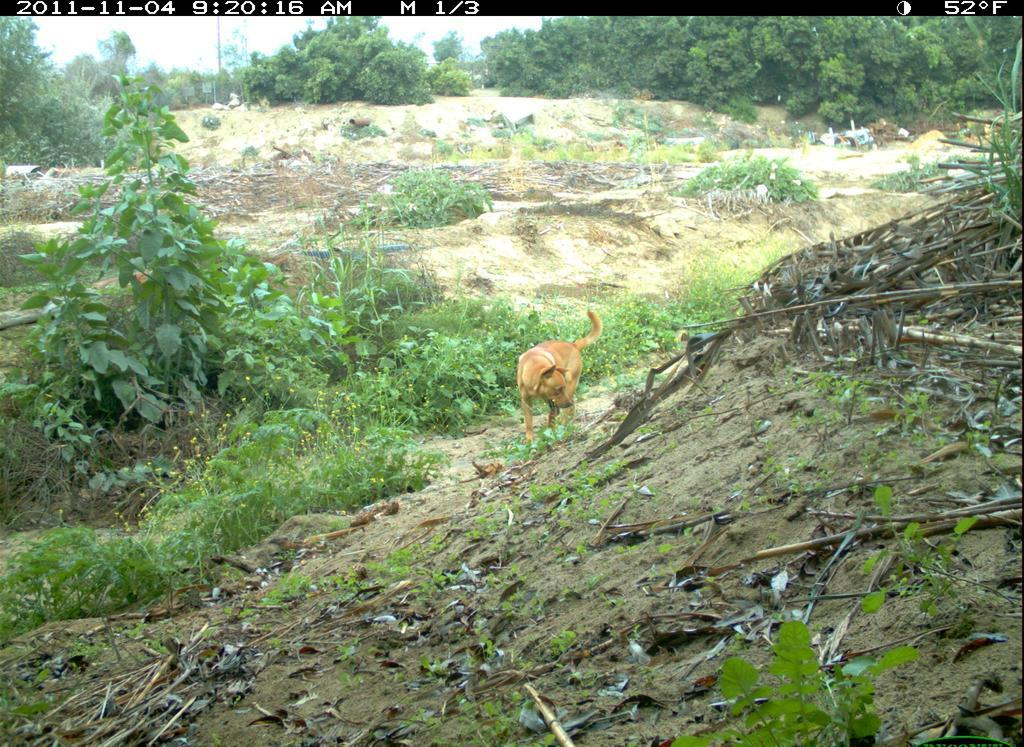dog: (513, 304, 610, 454)
